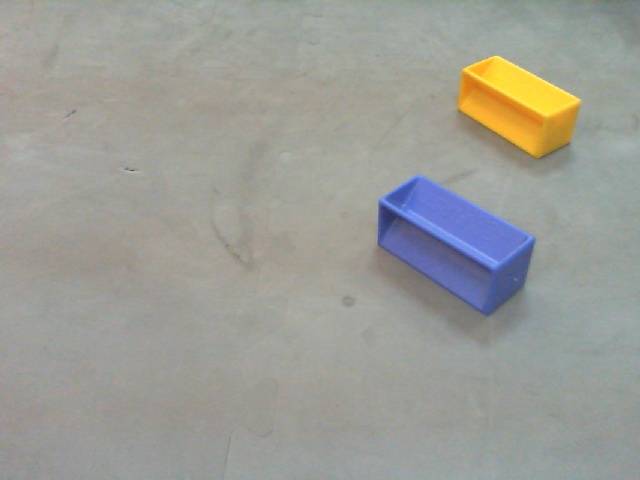BlueSample: (377, 173, 536, 322)
YellowSample: (455, 53, 583, 160)
